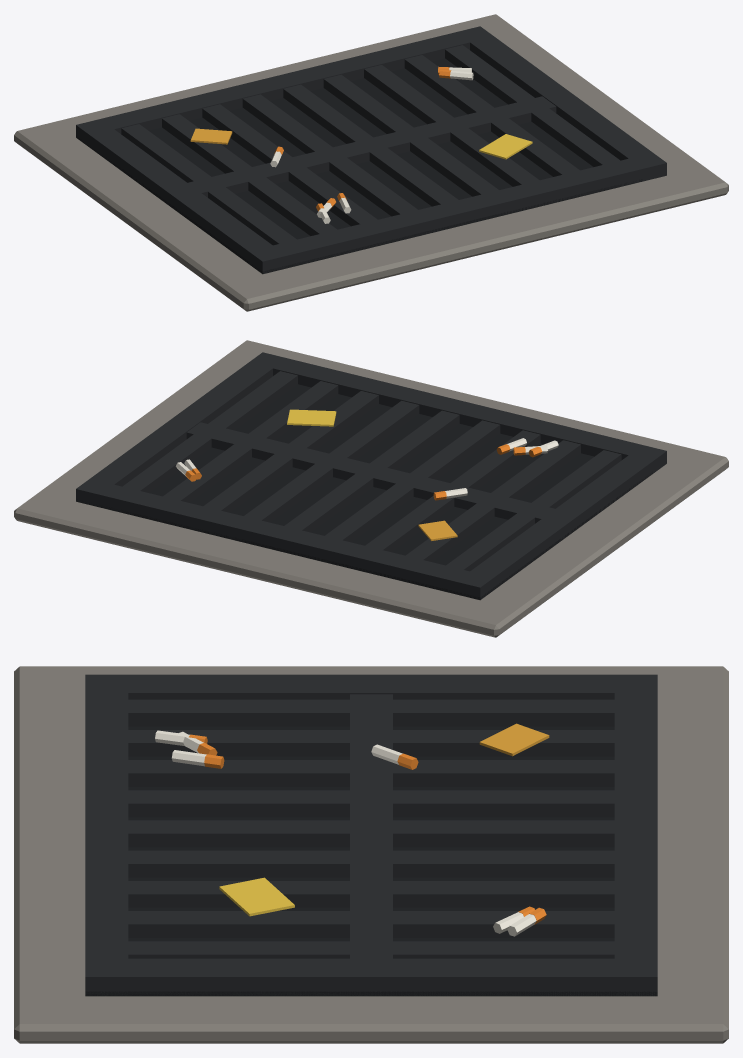
The model's file is SC_Util_Drain_Square.gltf.
3 views of the same model, one above another, from view 1: azimuth 30°, elevation 25°; view 2: azimuth 150°, elevation 25°; view 3: azimuth 270°, elevation 25° (orthographic). The views are drawn at different scales.
Parts seen in each view (by area): view 1: SC_Util_Drain_Square; view 2: SC_Util_Drain_Square; view 3: SC_Util_Drain_Square.
Part boxes in pixels (bbox=[...]): SC_Util_Drain_Square: bbox=[14, 14, 728, 311]; SC_Util_Drain_Square: bbox=[14, 340, 728, 637]; SC_Util_Drain_Square: bbox=[14, 666, 728, 1043].
Size of the model in its own units: 0.6 by 0.0368 by 0.5.
Materials: 1 (1 with a texture image).
